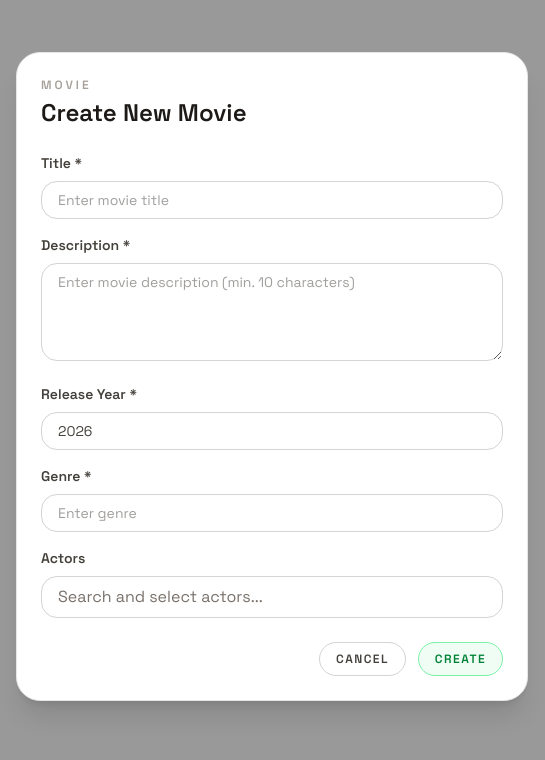
Scenario: MovieFormModal › validates required fields
The image size is (545, 760).
Click the button "Create". click: click(460, 658)
box: [418,642,503,676]
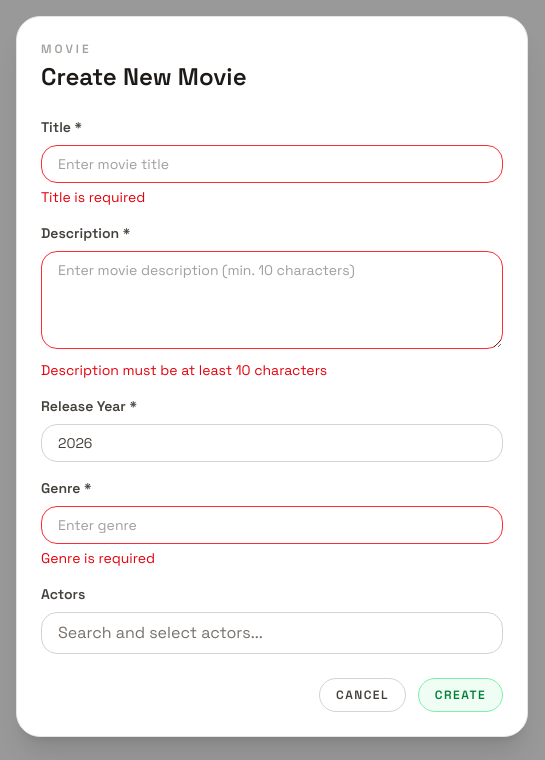
Expected: the text "Title is required" is shown, [41,188,145,206]
Expected: the text "Description must be at least 10 characters" is shown, [41,360,327,378]
Expected: the text "Genre is required" is shown, [41,548,155,566]
